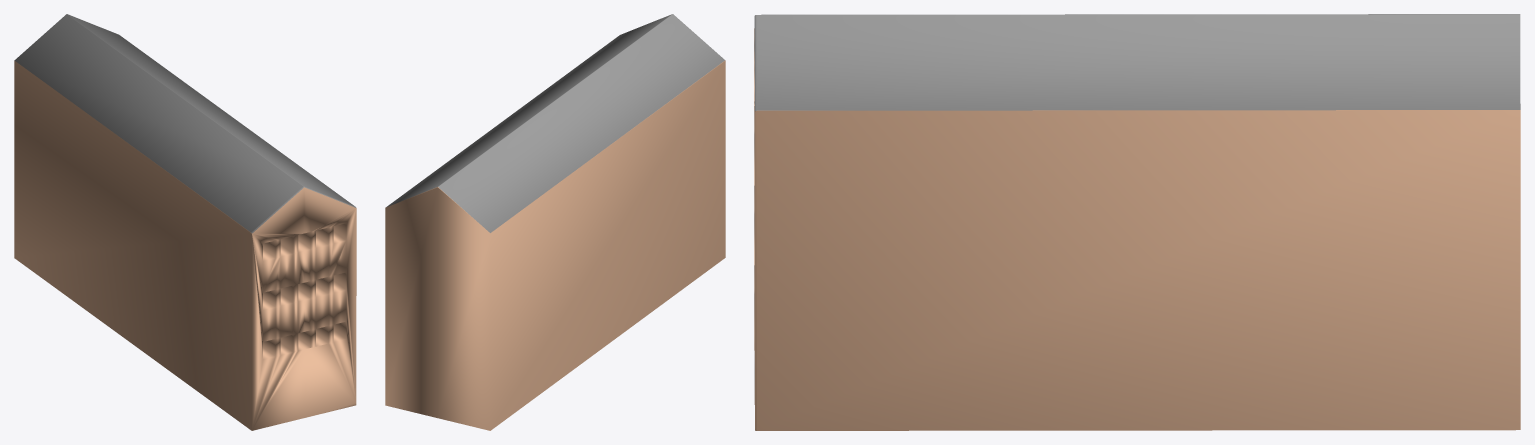
Rendered from machinezaal.glb.
3 renders of one model, left to right at view 1: azimuth 30°, elevation 25°; view 2: azimuth 150°, elevation 25°; view 3: azimuth 270°, elevation 25°, orthographic. The views are drawn at different scales.
Parts seen in each view (by area): view 1: machineroom; view 2: machineroom; view 3: machineroom.
Boxes of the visible parts, box(x1,y1,x2,y2) form: machineroom: box(14, 14, 356, 430); machineroom: box(385, 14, 725, 430); machineroom: box(754, 14, 1520, 430).
Bounding box in the file's own units: 0.6692 × 1.4 × 2.59.
